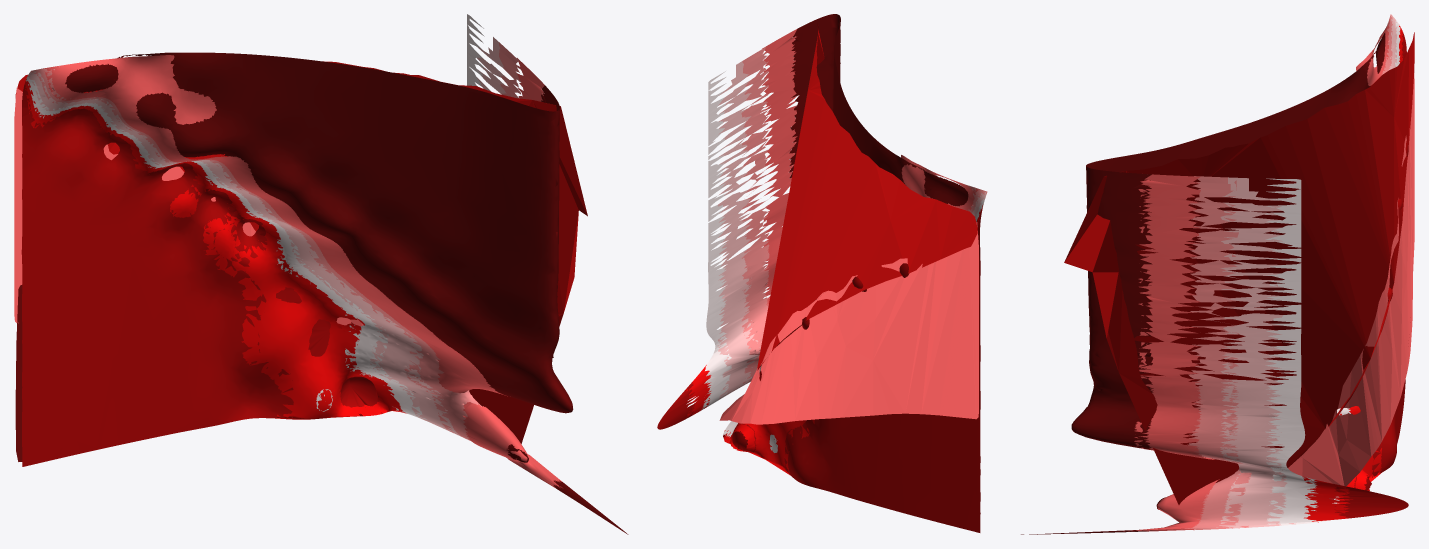
The model's file is ssim.glb.
The picture shows the model from 3 angles, left to right: view 1: azimuth 30°, elevation 25°; view 2: azimuth 150°, elevation 25°; view 3: azimuth 270°, elevation 25°; orthographic projection. The views are drawn at different scales.
Visible parts, largest first — view 1: E_simulated, H_simulated, S_simulated, T4_simulated, T2_simulated, L_simulated, H_simulated_back, T3_simulated, T4_simulated_back, E_simulated_back; view 2: T4_simulated_back, H_simulated_back, H_simulated, T2_simulated, E_simulated, T4_simulated, T3_simulated, L_simulated, S_simulated; view 3: H_simulated_back, E_simulated, T4_simulated, T2_simulated, T4_simulated_back, T3_simulated, L_simulated, H_simulated, S_simulated.
Part boxes in pixels (bbox=[...]): E_simulated: bbox=[65, 52, 628, 534]; H_simulated: bbox=[21, 84, 379, 466]; S_simulated: bbox=[24, 79, 406, 419]; T4_simulated: bbox=[41, 55, 562, 488]; T2_simulated: bbox=[27, 37, 506, 436]; L_simulated: bbox=[26, 14, 484, 422]; H_simulated_back: bbox=[15, 61, 587, 443]; T3_simulated: bbox=[30, 42, 528, 454]; T4_simulated_back: bbox=[14, 88, 363, 326]; E_simulated_back: bbox=[15, 285, 22, 461]; T4_simulated_back: bbox=[719, 222, 978, 424]; H_simulated_back: bbox=[757, 23, 977, 370]; H_simulated: bbox=[657, 210, 982, 532]; T2_simulated: bbox=[717, 61, 987, 399]; E_simulated: bbox=[789, 14, 968, 206]; T4_simulated: bbox=[762, 29, 978, 305]; T3_simulated: bbox=[741, 47, 987, 385]; L_simulated: bbox=[701, 71, 984, 452]; S_simulated: bbox=[686, 204, 983, 475]; H_simulated_back: bbox=[1064, 32, 1414, 504]; E_simulated: bbox=[1021, 33, 1385, 534]; T4_simulated: bbox=[1123, 19, 1389, 531]; T2_simulated: bbox=[1216, 15, 1397, 528]; T4_simulated_back: bbox=[1288, 73, 1414, 499]; T3_simulated: bbox=[1185, 14, 1392, 530]; L_simulated: bbox=[1265, 20, 1400, 525]; H_simulated: bbox=[1334, 32, 1408, 518]; S_simulated: bbox=[1302, 25, 1403, 522].
Size of the model in its own units: 0.0101 by 0.01 by 0.0101.
